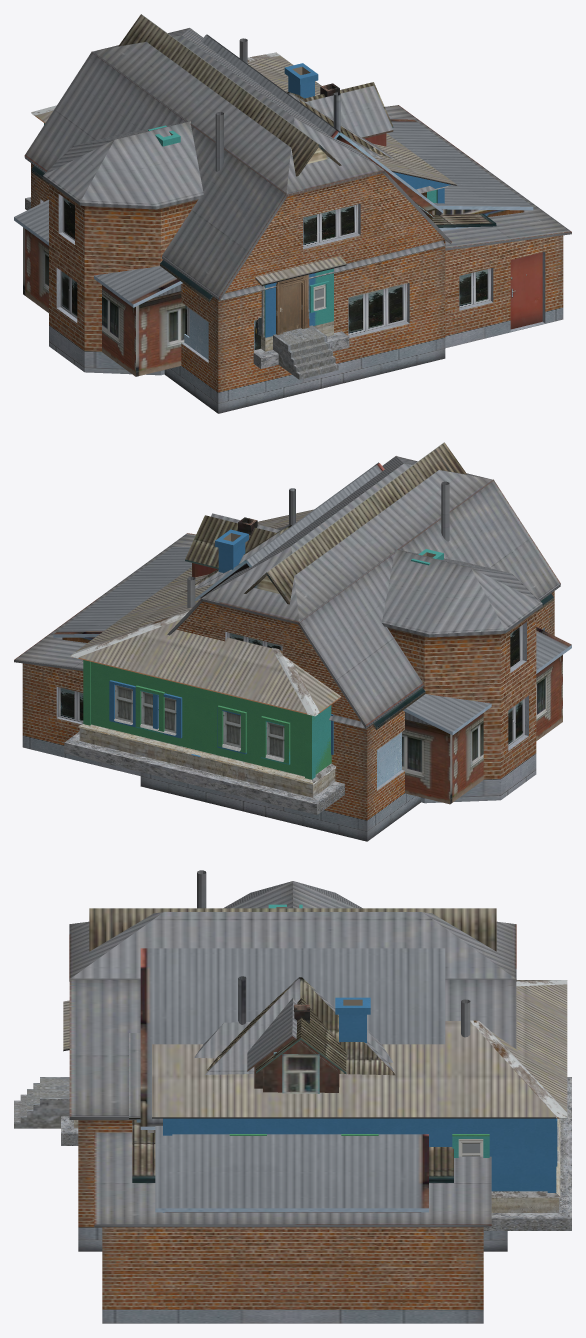
The model's file is huts.fbx.
3 renders of one model, top to bottom at view 1: azimuth 30°, elevation 25°; view 2: azimuth 150°, elevation 25°; view 3: azimuth 270°, elevation 25°, orthographic. The views are drawn at different scales.
Parts seen in each view (by area): view 1: hut1, hut2, hut4, hut, hut9, hut8, hut6, hut5; view 2: hut1, hut, hut2, hut4, hut9, hut8, hut5, hut7; view 3: hut1, hut2, hut, hut9, hut5, hut4, hut6, hut8, hut7, hut3.
Part boxes in pixels (x1,y1,x2,y2): hut1: (24,28,571,413); hut2: (14,34,533,376); hut4: (31,14,496,359); hut: (25,52,456,378); hut9: (25,63,456,372); hut8: (31,113,437,379); hut6: (305,85,434,197); hut5: (287,82,393,157); hut1: (14,456,560,841); hut: (64,509,344,811); hut2: (53,462,571,804); hut4: (187,442,553,787); hut9: (70,529,344,814); hut8: (64,549,443,814); hut5: (184,515,291,592); hut7: (195,517,289,588); hut1: (69,870,516,1323); hut2: (140,948,445,1212); hut: (14,980,571,1219); hut9: (14,997,566,1212); hut5: (207,977,395,1093); hut4: (89,908,496,1182); hut6: (194,998,393,1088); hut8: (33,904,571,1230); hut7: (205,977,393,1074); hut3: (129,976,246,1122).
Bounding box in the file's own units: 1617 × 902 × 1609.
1 material, 1 textured.
